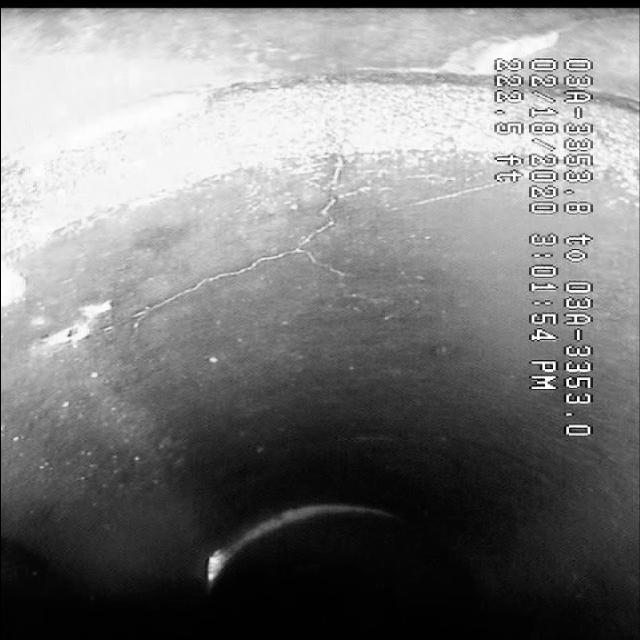Crack: (141, 95, 431, 362)
